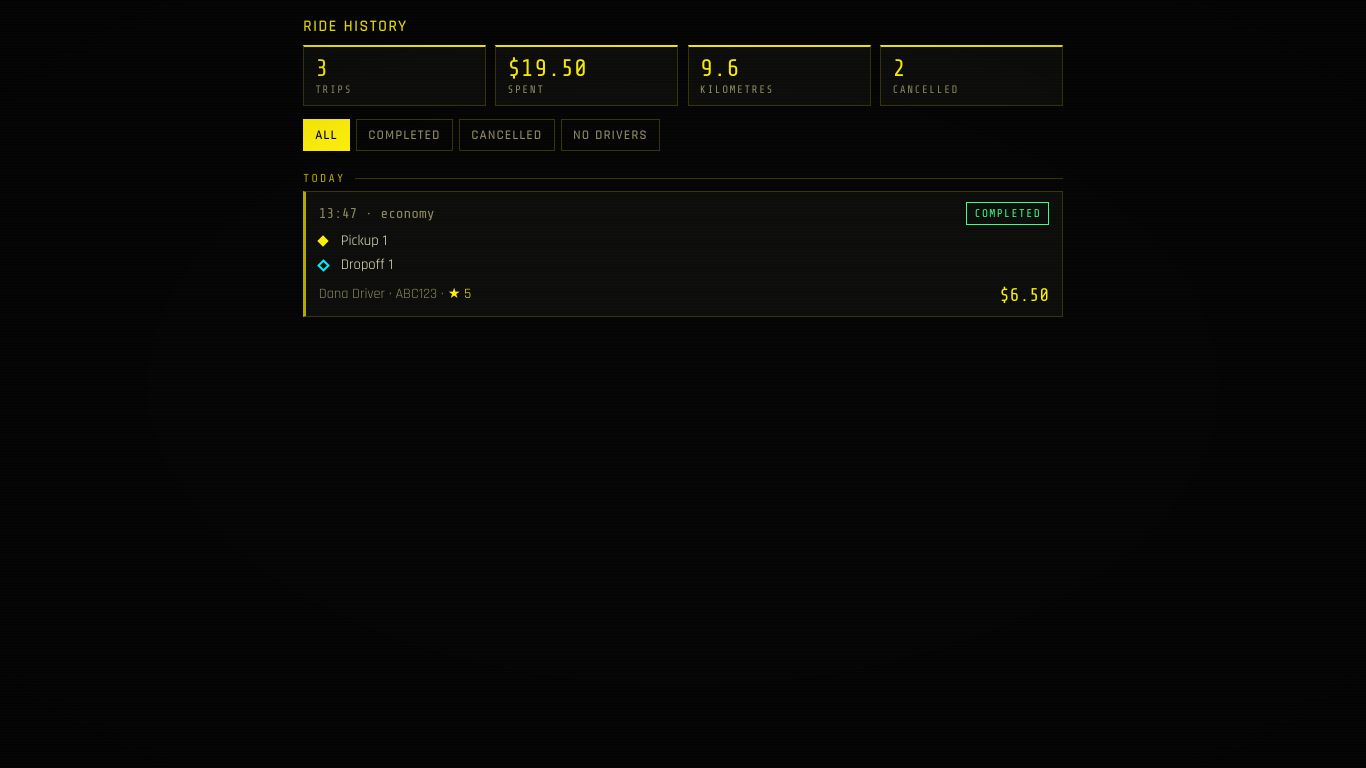
Test: HistoryPage › closes the receipt with Escape
Click the button with aria-label "Trip on" at (338, 213), box [303,191,1063,317]
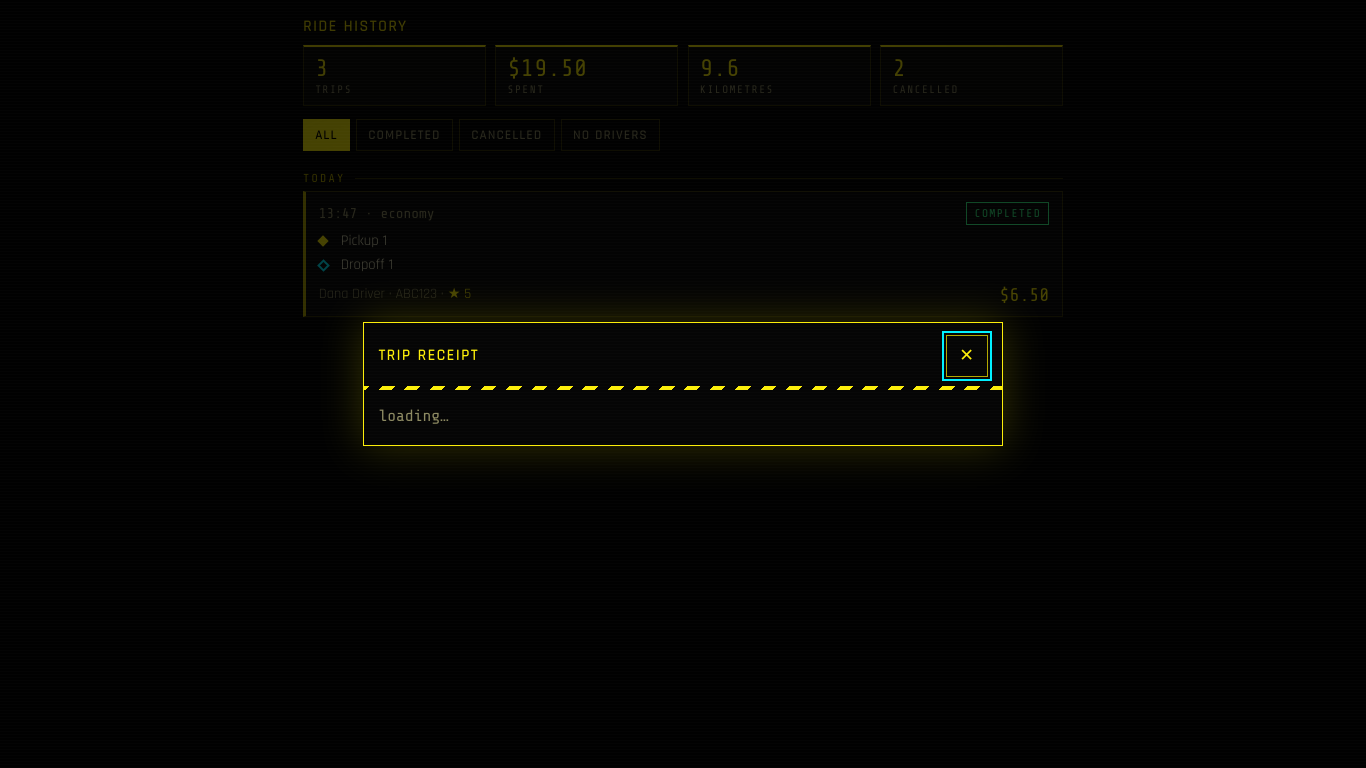
Expected: the dialog is shown
Press Escape
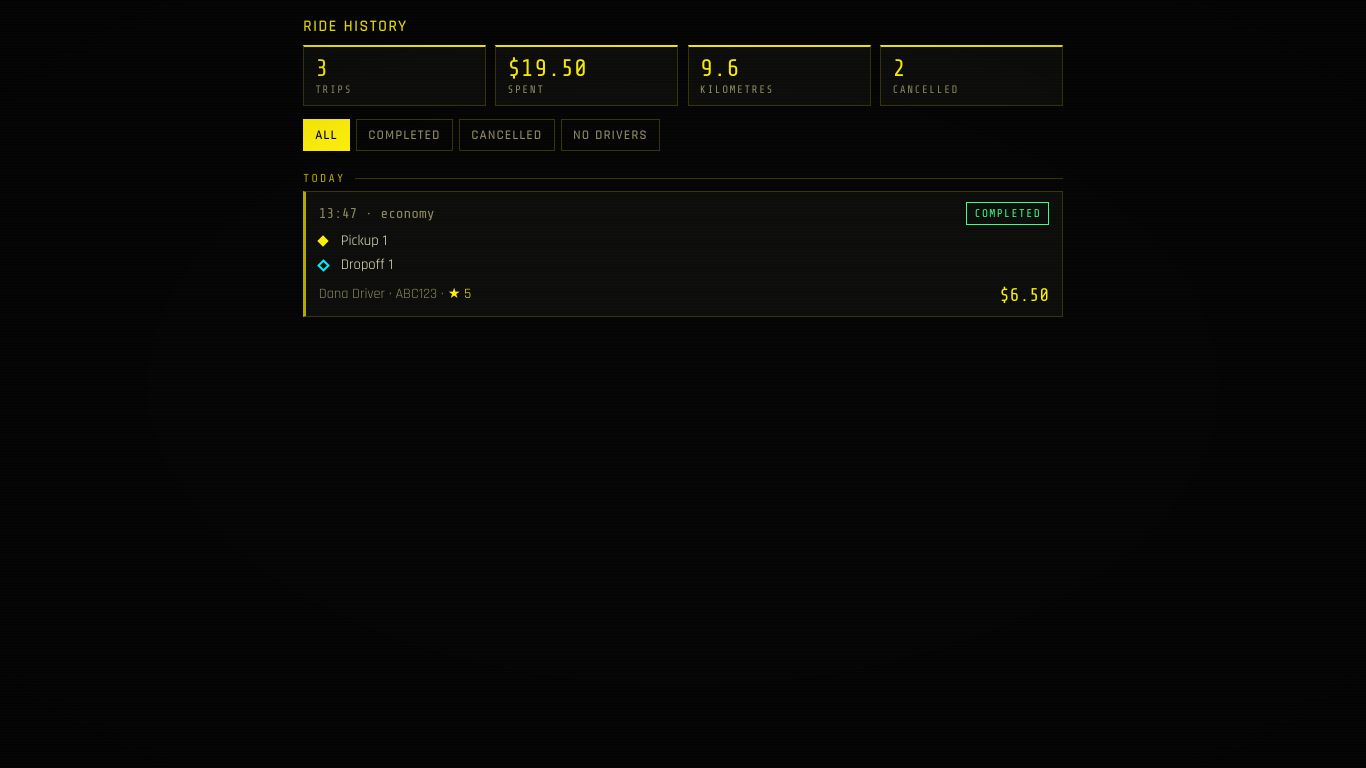
Expected: the dialog is gone
